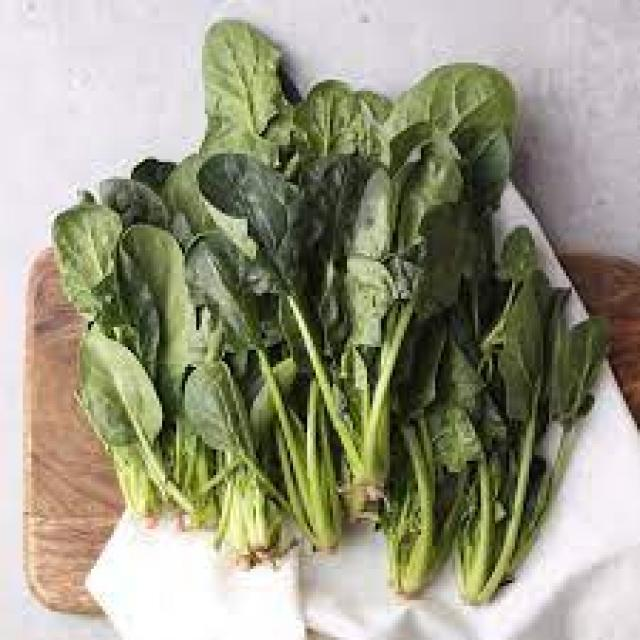Spinach bagged/loose: (54, 23, 606, 604)
